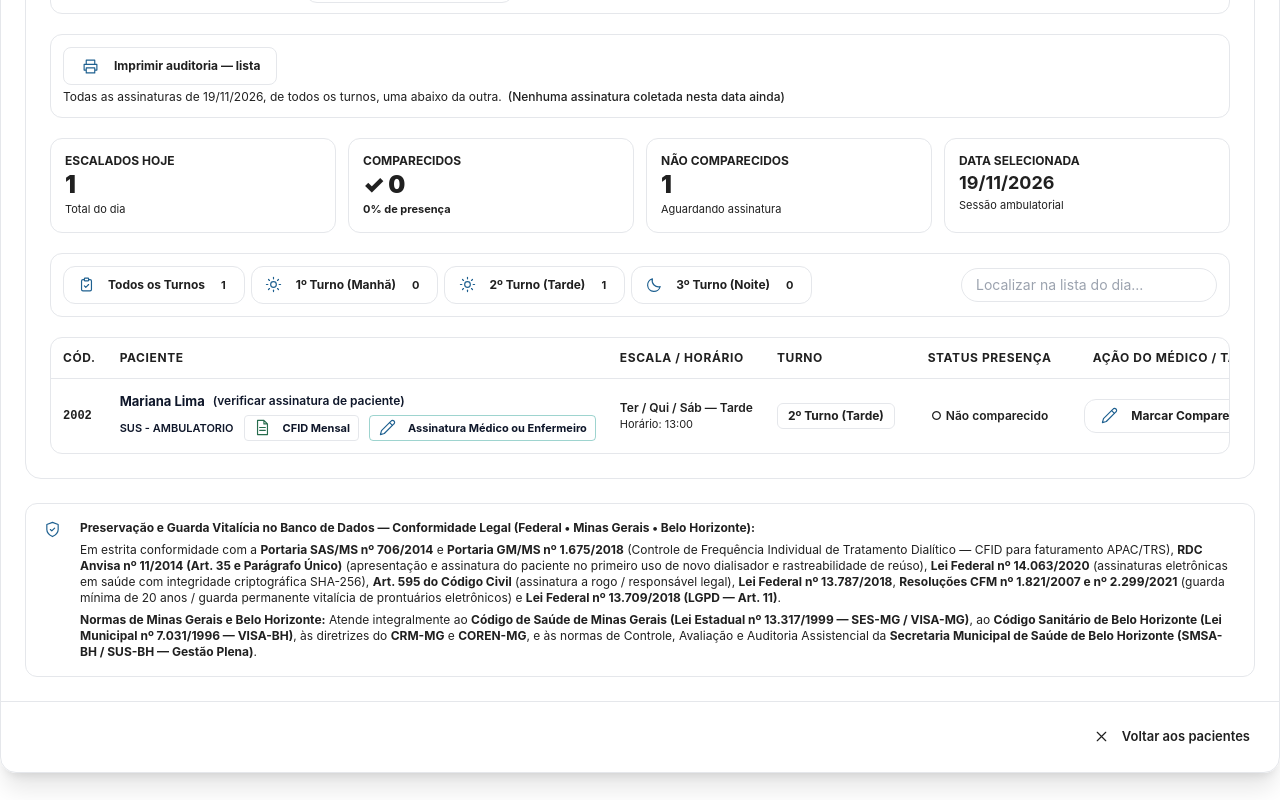
Scenario: PatientSignaturesPage Component › shows (verificar assinatura de paciente) in front of patient name even if not attended
(page scrolled)
Clica no botão verificar assinatura de um paciente que não compareceu
Click the button "(verificar assinatura de paciente)" at (309, 400), box 213,392 -> 405,408
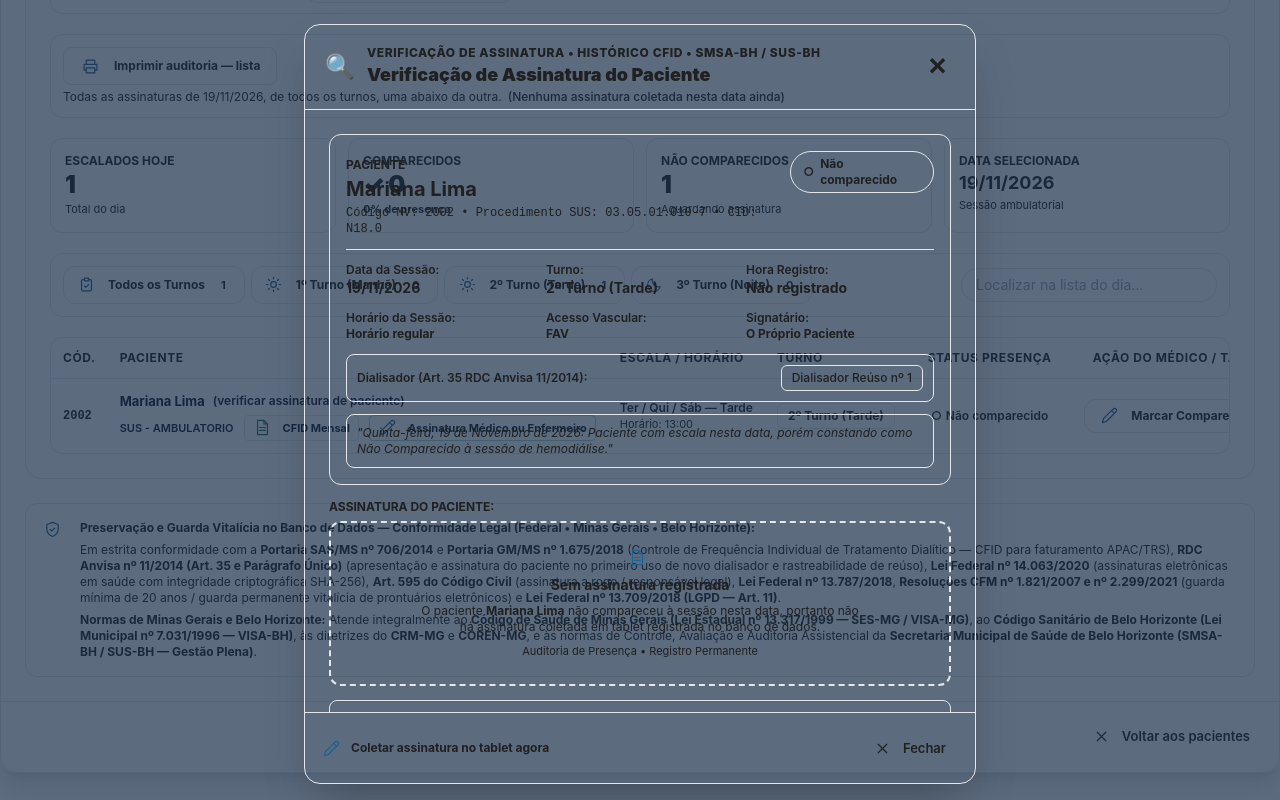
Expected: the text "Não Comparecidos" is shown, 661,153 -> 789,168
Result: the dialog is shown
Result: the heading "Sem assinatura registrada" is shown at 551,575 -> 729,595
